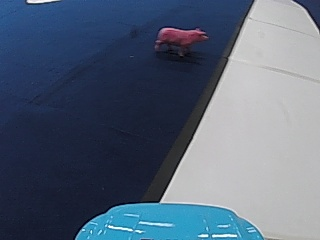pig: (154, 21, 208, 58)
